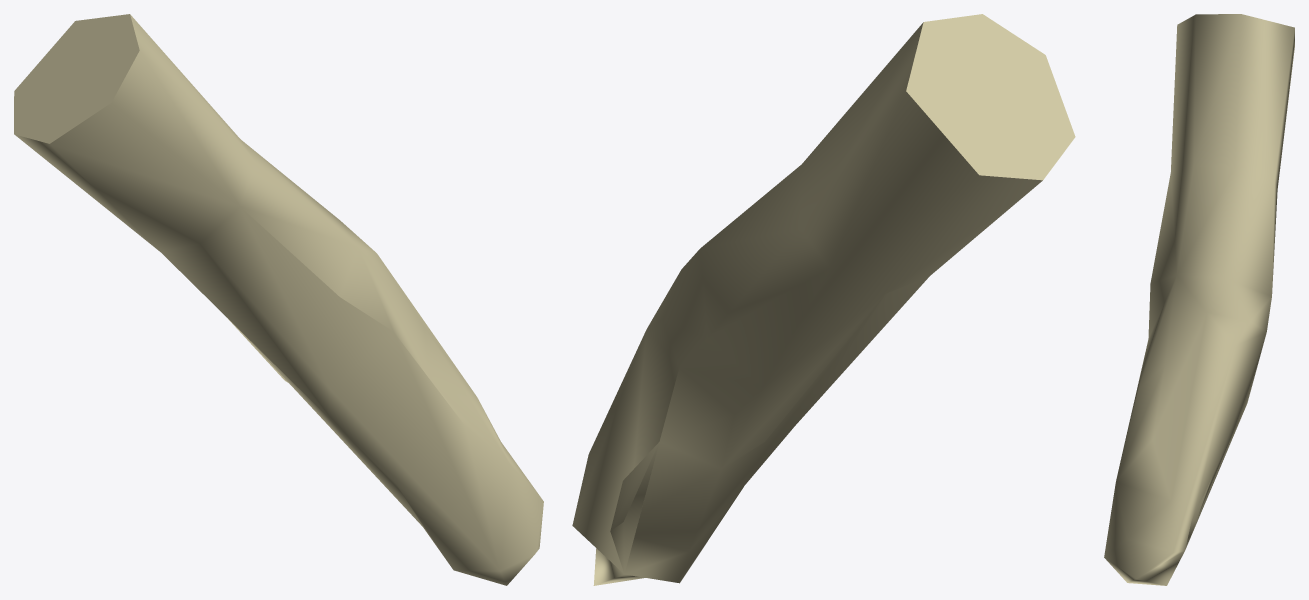
The model's file is Nao6_Right_Hand_Bottom_Finger.obj.
The picture shows the model from 3 angles, left to right: view 1: azimuth 30°, elevation 25°; view 2: azimuth 150°, elevation 25°; view 3: azimuth 270°, elevation 25°; orthographic projection. The views are drawn at different scales.
Visible parts, largest first — view 1: Nao6_Right_Hand_Bottom_Finger; view 2: Nao6_Right_Hand_Bottom_Finger; view 3: Nao6_Right_Hand_Bottom_Finger.
Boxes of the visible parts, x1,y1,x2,y2 form: Nao6_Right_Hand_Bottom_Finger: (14,14,543,585); Nao6_Right_Hand_Bottom_Finger: (572,14,1075,585); Nao6_Right_Hand_Bottom_Finger: (1104,14,1294,585).
Bounding box in the file's own units: 0.1979 × 0.249 × 0.0946.
